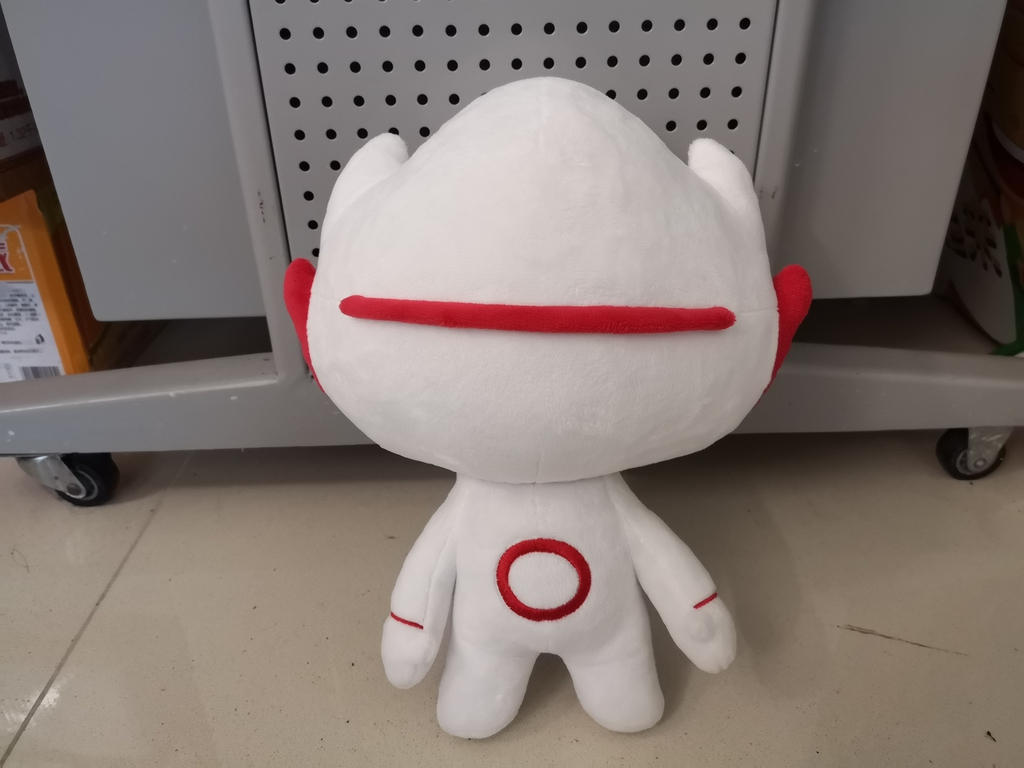yunbao: (318, 76, 812, 739)
